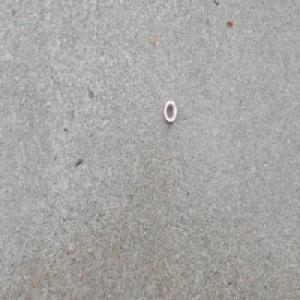Nut: (163, 99, 177, 124)
